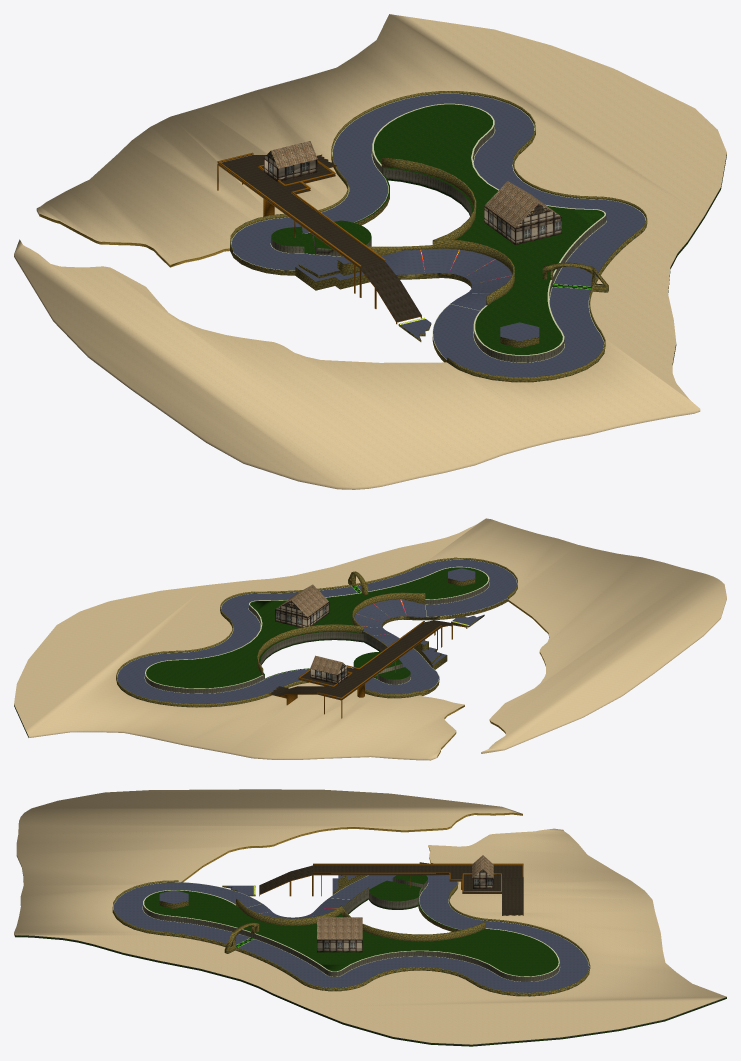
3 renders of one model, top to bottom at view 1: azimuth 30°, elevation 25°; view 2: azimuth 150°, elevation 25°; view 3: azimuth 270°, elevation 25°, orthographic. The views are drawn at different scales.
Visible parts, largest first — view 1: thinkimbasedgod-GRP-Canary_Bay_2k17_Main-sable-38213-mat7, thinkimbasedgod-GRP-Canary_Bay_2k17_Main-route-38212-mat6, thinkimbasedgod-GRP-Canary_Bay_2k17_Main-herbe-38210-mat4, thinkimbasedgod-GRP-Canary_Bay_2k17_Main-parois2-38211-mat5, thinkimbasedgod-GRP-Canary_Bay_2k17_Main-passerrelle-38220-m, thinkimbasedgod-GRP-Canary_Bay_2k17_Main-parois1-38209-mat3, thinkimbasedgod-GRP-Canary_Bay_2k17_Main-tuiles-38221-mat14, thinkimbasedgod-GRP-Canary_Bay_2k17_Main-maison1-38218-mat11, thinkimbasedgod-GRP-Canary_Bay_2k17_Main-bande_glissante-382, thinkimbasedgod-GRP-Canary_Bay_2k17_Main-mur_bois-38214-mat8; view 2: thinkimbasedgod-GRP-Canary_Bay_2k17_Main-sable-38213-mat7, thinkimbasedgod-GRP-Canary_Bay_2k17_Main-route-38212-mat6, thinkimbasedgod-GRP-Canary_Bay_2k17_Main-herbe-38210-mat4, thinkimbasedgod-GRP-Canary_Bay_2k17_Main-parois2-38211-mat5, thinkimbasedgod-GRP-Canary_Bay_2k17_Main-parois1-38209-mat3, thinkimbasedgod-GRP-Canary_Bay_2k17_Main-passerrelle-38220-m, thinkimbasedgod-GRP-Canary_Bay_2k17_Main-mur_bois-38214-mat8, thinkimbasedgod-GRP-Canary_Bay_2k17_Main-bande_glissante-382, thinkimbasedgod-GRP-Canary_Bay_2k17_Main-tuiles-38221-mat14, thinkimbasedgod-GRP-Canary_Bay_2k17_Main-maison1-38218-mat11; view 3: thinkimbasedgod-GRP-Canary_Bay_2k17_Main-sable-38213-mat7, thinkimbasedgod-GRP-Canary_Bay_2k17_Main-route-38212-mat6, thinkimbasedgod-GRP-Canary_Bay_2k17_Main-herbe-38210-mat4, thinkimbasedgod-GRP-Canary_Bay_2k17_Main-parois2-38211-mat5, thinkimbasedgod-GRP-Canary_Bay_2k17_Main-parois1-38209-mat3, thinkimbasedgod-GRP-Canary_Bay_2k17_Main-passerrelle-38220-m, thinkimbasedgod-GRP-Canary_Bay_2k17_Main-mur_bois-38214-mat8, thinkimbasedgod-GRP-Canary_Bay_2k17_Main-tuiles-38221-mat14, thinkimbasedgod-GRP-Canary_Bay_2k17_Main-bande_glissante-382, thinkimbasedgod-GRP-Canary_Bay_2k17_Main-parois3-38216-mat9, thinkimbasedgod-GRP-Canary_Bay_2k17_Main-maison1-38218-mat11.
Part boxes in pixels (x1=…): thinkimbasedgod-GRP-Canary_Bay_2k17_Main-sable-38213-mat7: x1=14, y1=14, x2=726, y2=489; thinkimbasedgod-GRP-Canary_Bay_2k17_Main-route-38212-mat6: x1=231, y1=94, x2=645, y2=377; thinkimbasedgod-GRP-Canary_Bay_2k17_Main-herbe-38210-mat4: x1=271, y1=104, x2=604, y2=354; thinkimbasedgod-GRP-Canary_Bay_2k17_Main-parois2-38211-mat5: x1=230, y1=91, x2=647, y2=382; thinkimbasedgod-GRP-Canary_Bay_2k17_Main-passerrelle-38220-m: x1=217, y1=154, x2=421, y2=321; thinkimbasedgod-GRP-Canary_Bay_2k17_Main-parois1-38209-mat3: x1=271, y1=125, x2=726, y2=364; thinkimbasedgod-GRP-Canary_Bay_2k17_Main-tuiles-38221-mat14: x1=271, y1=141, x2=559, y2=227; thinkimbasedgod-GRP-Canary_Bay_2k17_Main-maison1-38218-mat11: x1=264, y1=158, x2=561, y2=244; thinkimbasedgod-GRP-Canary_Bay_2k17_Main-bande_glissante-382: x1=231, y1=93, x2=645, y2=362; thinkimbasedgod-GRP-Canary_Bay_2k17_Main-mur_bois-38214-mat8: x1=217, y1=152, x2=421, y2=324; thinkimbasedgod-GRP-Canary_Bay_2k17_Main-sable-38213-mat7: x1=14, y1=518, x2=726, y2=760; thinkimbasedgod-GRP-Canary_Bay_2k17_Main-route-38212-mat6: x1=117, y1=560, x2=516, y2=703; thinkimbasedgod-GRP-Canary_Bay_2k17_Main-herbe-38210-mat4: x1=146, y1=567, x2=488, y2=688; thinkimbasedgod-GRP-Canary_Bay_2k17_Main-parois2-38211-mat5: x1=116, y1=557, x2=517, y2=707; thinkimbasedgod-GRP-Canary_Bay_2k17_Main-parois1-38209-mat3: x1=14, y1=581, x2=489, y2=737; thinkimbasedgod-GRP-Canary_Bay_2k17_Main-passerrelle-38220-m: x1=269, y1=620, x2=464, y2=699; thinkimbasedgod-GRP-Canary_Bay_2k17_Main-mur_bois-38214-mat8: x1=268, y1=621, x2=467, y2=718; thinkimbasedgod-GRP-Canary_Bay_2k17_Main-bande_glissante-382: x1=117, y1=559, x2=517, y2=693; thinkimbasedgod-GRP-Canary_Bay_2k17_Main-tuiles-38221-mat14: x1=276, y1=584, x2=342, y2=674; thinkimbasedgod-GRP-Canary_Bay_2k17_Main-maison1-38218-mat11: x1=275, y1=602, x2=347, y2=684; thinkimbasedgod-GRP-Canary_Bay_2k17_Main-sable-38213-mat7: x1=14, y1=789, x2=726, y2=1044; thinkimbasedgod-GRP-Canary_Bay_2k17_Main-route-38212-mat6: x1=114, y1=875, x2=588, y2=992; thinkimbasedgod-GRP-Canary_Bay_2k17_Main-herbe-38210-mat4: x1=144, y1=875, x2=558, y2=976; thinkimbasedgod-GRP-Canary_Bay_2k17_Main-parois2-38211-mat5: x1=112, y1=862, x2=590, y2=996; thinkimbasedgod-GRP-Canary_Bay_2k17_Main-parois1-38209-mat3: x1=15, y1=878, x2=726, y2=1046; thinkimbasedgod-GRP-Canary_Bay_2k17_Main-passerrelle-38220-m: x1=259, y1=865, x2=523, y2=915; thinkimbasedgod-GRP-Canary_Bay_2k17_Main-mur_bois-38214-mat8: x1=259, y1=863, x2=523, y2=915; thinkimbasedgod-GRP-Canary_Bay_2k17_Main-tuiles-38221-mat14: x1=317, y1=855, x2=493, y2=939; thinkimbasedgod-GRP-Canary_Bay_2k17_Main-bande_glissante-382: x1=113, y1=875, x2=589, y2=981; thinkimbasedgod-GRP-Canary_Bay_2k17_Main-parois3-38216-mat9: x1=181, y1=812, x2=522, y2=882; thinkimbasedgod-GRP-Canary_Bay_2k17_Main-maison1-38218-mat11: x1=317, y1=878, x2=493, y2=952.
Size of the model in its own units: 79587 by 6070 by 93965.
Materials: 16 (16 with a texture image).
